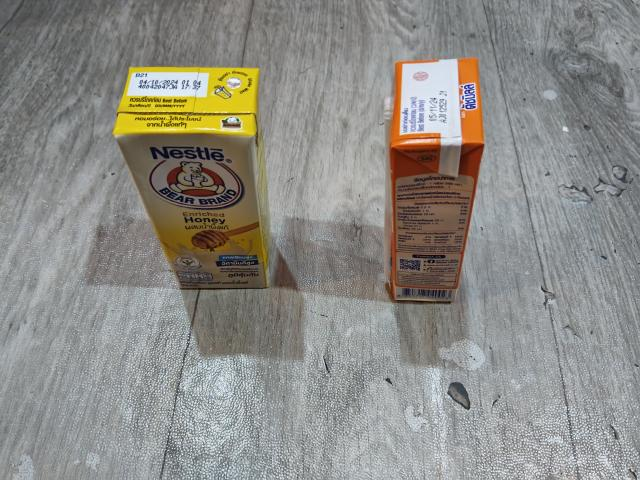drink_box: (121, 67, 278, 293), (389, 57, 484, 305)
